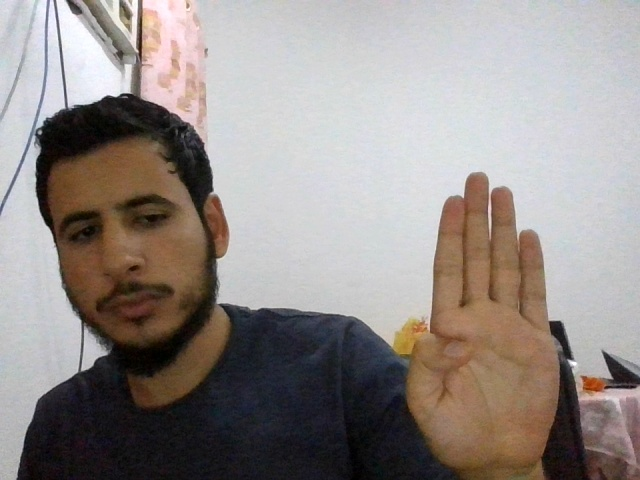Four: (404, 171, 561, 470)
